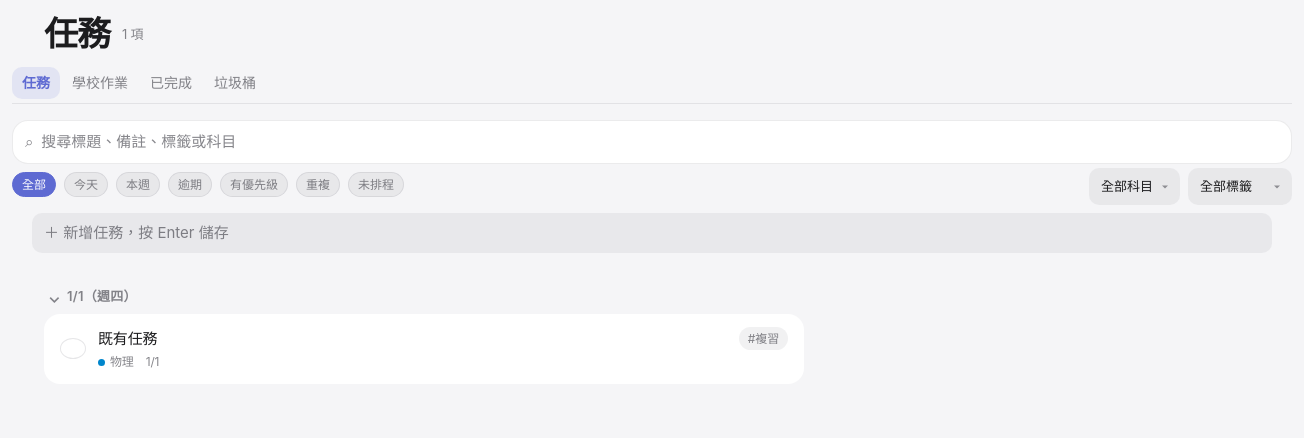
Test: 任務快速新增 › 輸入標題後可直接加日期、科目、優先級與標籤，成功後重設選項
Step 1. Type "準備數學小考" into the field with placeholder "＋ 新增任務，按 Enter 儲存" → coordinates (652, 233), box top-left (32, 214), bottom-right (1272, 253)
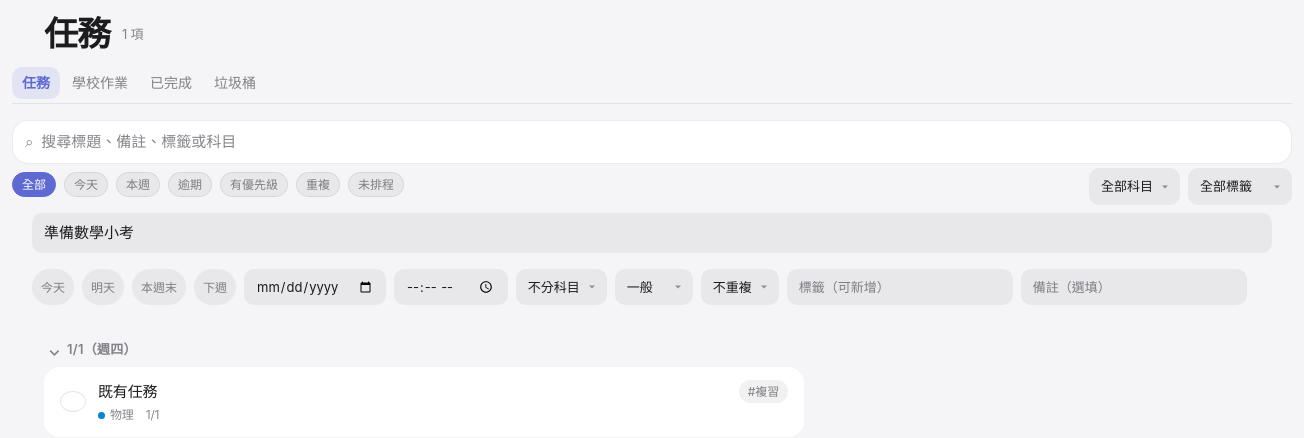
Check: the element named "快速新增選項" is shown, box top-left (32, 261), bottom-right (1272, 306)
Step 2. Click the button "明天" → coordinates (103, 287), box top-left (82, 269), bottom-right (124, 305)
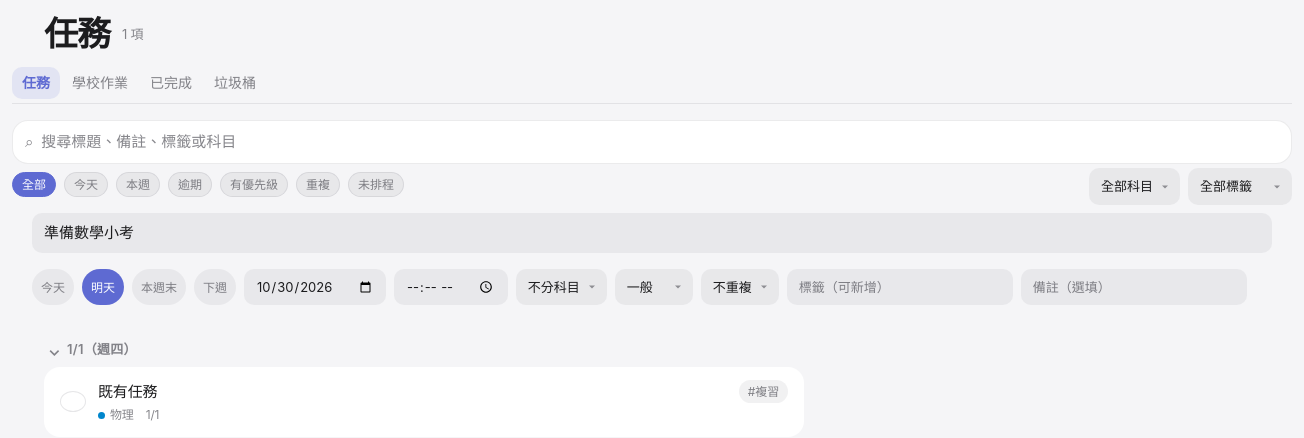
Step 3. Select "物理" in the dropdown named "快速新增科目" → coordinates (561, 287), box top-left (516, 269), bottom-right (607, 305)
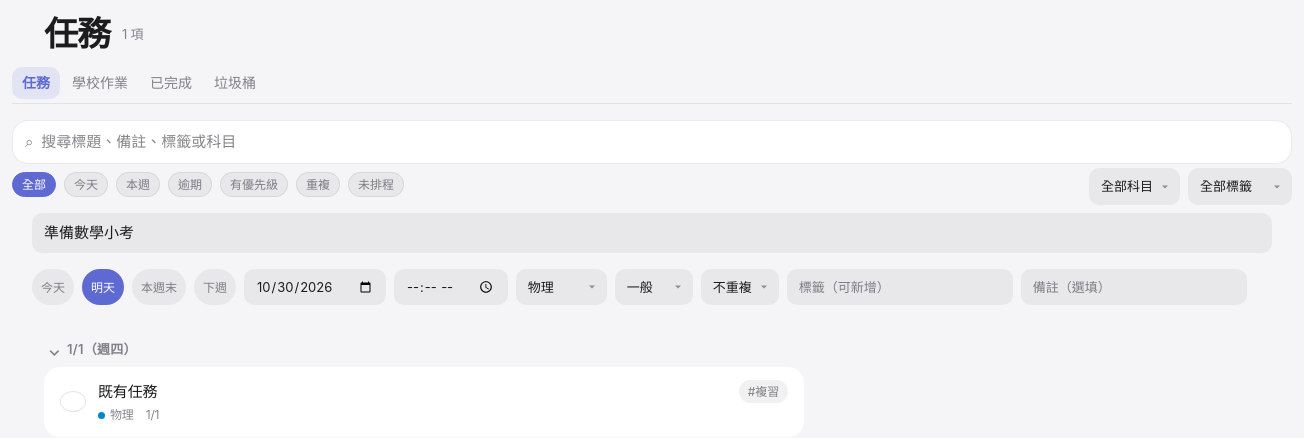
Step 4. Select "高優先" in the dropdown named "快速新增優先級" → coordinates (654, 287), box top-left (615, 269), bottom-right (693, 305)
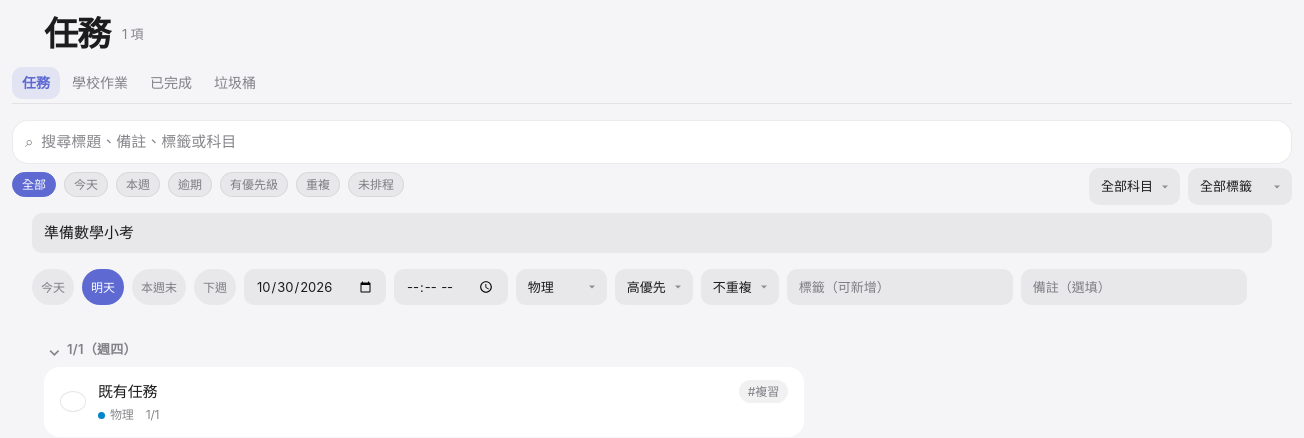
Step 5. Type "複習" into the field named "快速新增標籤" → coordinates (900, 287), box top-left (787, 269), bottom-right (1013, 305)
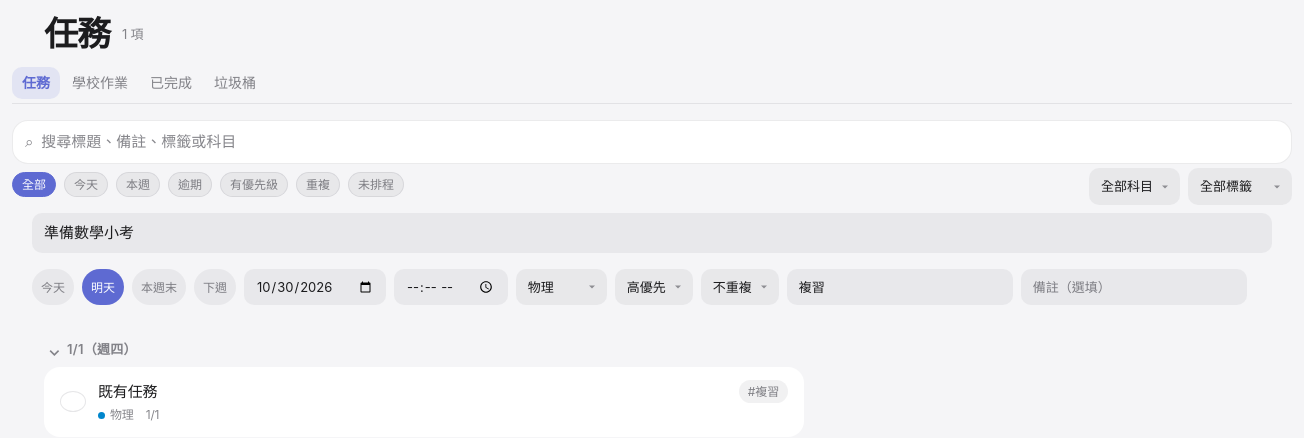
Step 6. Submit the form with placeholder "＋ 新增任務，按 Enter 儲存", box top-left (32, 214), bottom-right (1272, 306)
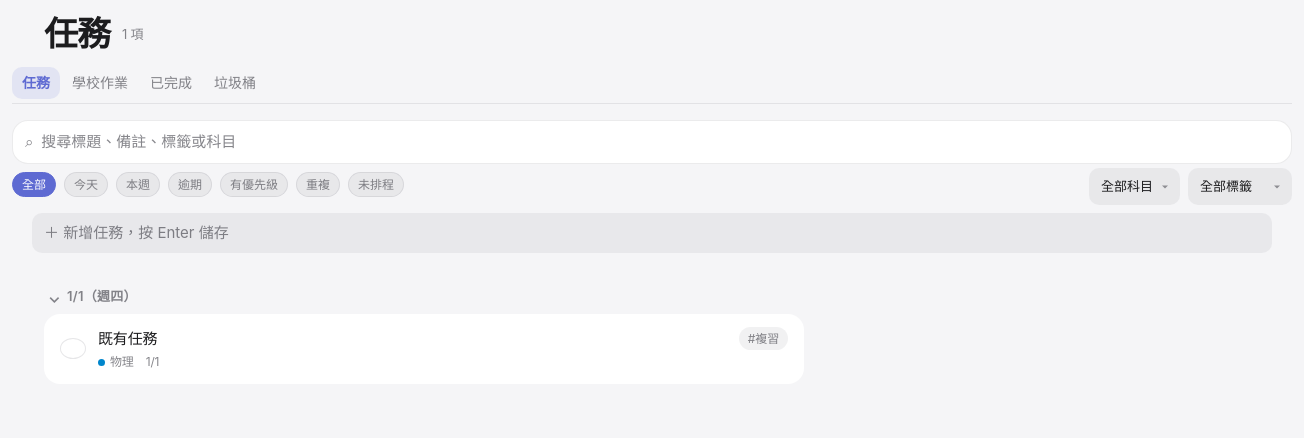
Check: the field with placeholder "＋ 新增任務，按 Enter 儲存" is empty, box top-left (32, 214), bottom-right (1272, 253)
Check: the field labelled "快速新增選項" is gone
